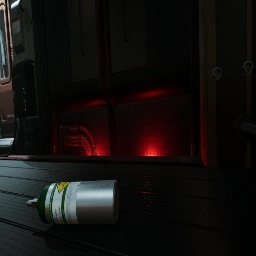0: (26, 180, 119, 224)
SafetySwitchPanel ,: (10, 0, 35, 65)
